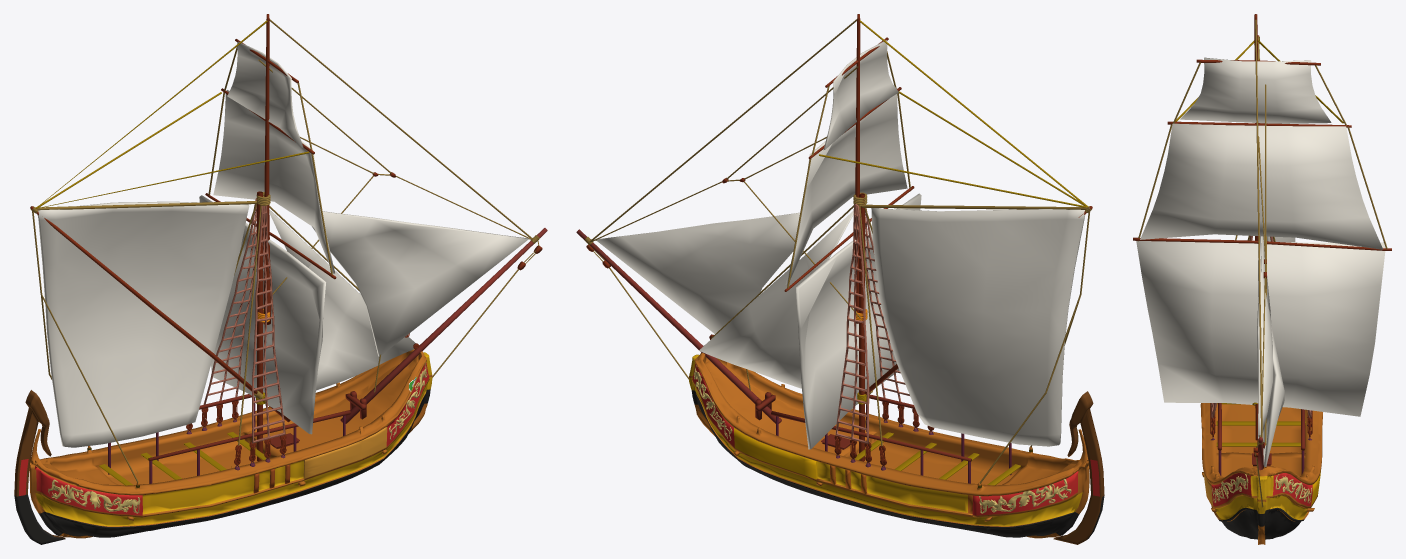
File: barco-web.glb
The picture shows the model from 3 angles, left to right: view 1: azimuth 30°, elevation 25°; view 2: azimuth 150°, elevation 25°; view 3: azimuth 270°, elevation 25°; orthographic projection.
Visible parts, largest first — view 1: Cylinder.004_Sail_0, Cube_Wood_0, Torus.009_Rope.001_0, Cylinder.001_Deadeye_0, Cube.026_Rope.003_0, Plane.010_Material_0; view 2: Cylinder.004_Sail_0, Cube_Wood_0, Torus.009_Rope.001_0, Cylinder.001_Deadeye_0, Cube.026_Rope.003_0, Plane.010_Material_0; view 3: Cylinder.004_Sail_0, Cube_Wood_0, Torus.009_Rope.001_0, Cylinder.001_Deadeye_0, Cube.026_Rope.003_0, Plane.010_Material_0.
Part boxes in pixels (left/top/right/bottom): Cylinder.004_Sail_0: left=37, top=41, right=528, bottom=447; Cube_Wood_0: left=14, top=198, right=547, bottom=544; Torus.009_Rope.001_0: left=30, top=19, right=539, bottom=482; Cylinder.001_Deadeye_0: left=30, top=14, right=542, bottom=465; Cube.026_Rope.003_0: left=35, top=20, right=309, bottom=485; Plane.010_Material_0: left=48, top=363, right=427, bottom=513; Cylinder.004_Sail_0: left=596, top=40, right=1084, bottom=449; Cube_Wood_0: left=576, top=204, right=1104, bottom=544; Torus.009_Rope.001_0: left=584, top=19, right=1091, bottom=483; Cylinder.001_Deadeye_0: left=586, top=14, right=1092, bottom=466; Cube.026_Rope.003_0: left=819, top=20, right=1088, bottom=485; Plane.010_Material_0: left=694, top=365, right=1071, bottom=513; Cylinder.004_Sail_0: left=1136, top=57, right=1386, bottom=466; Cube_Wood_0: left=1200, top=235, right=1322, bottom=544; Torus.009_Rope.001_0: left=1138, top=19, right=1387, bottom=507; Cylinder.001_Deadeye_0: left=1133, top=14, right=1391, bottom=457; Cube.026_Rope.003_0: left=1175, top=39, right=1343, bottom=446; Plane.010_Material_0: left=1212, top=474, right=1312, bottom=503.
Bounding box in the file's own units: 8.76 × 7.65 × 3.67.
9 materials, 3 textured.
